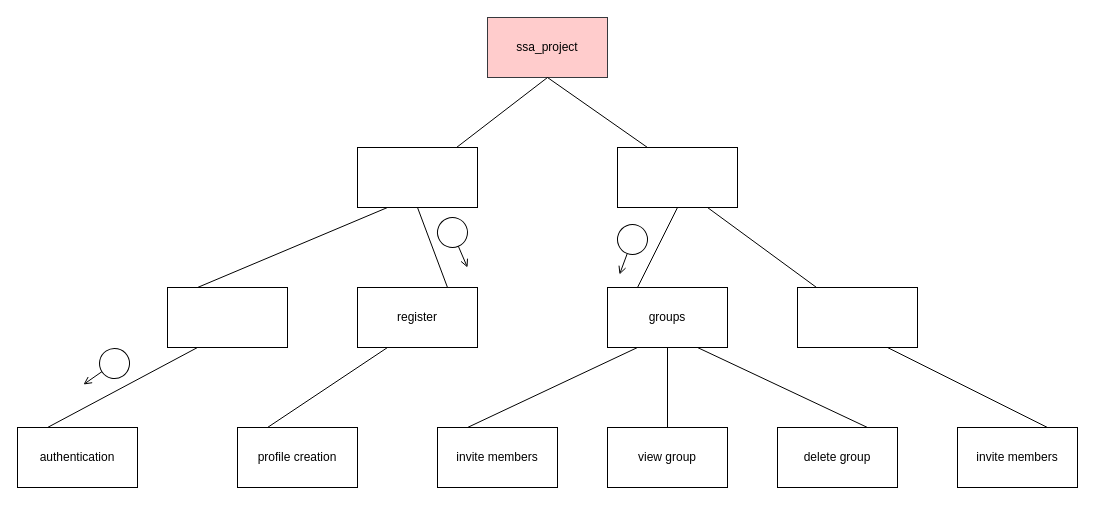
This 1095x505 diagram has some shape labels left out. The shapes that lost their labels are listed below. From the top down, each one's centre as x and y in pixels, then its label:
[417,177]: users
[677,177]: chipin
[227,317]: login
[857,317]: create group
